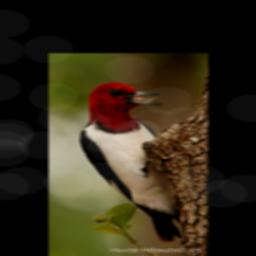Woodpecker: (79, 82, 182, 242)
